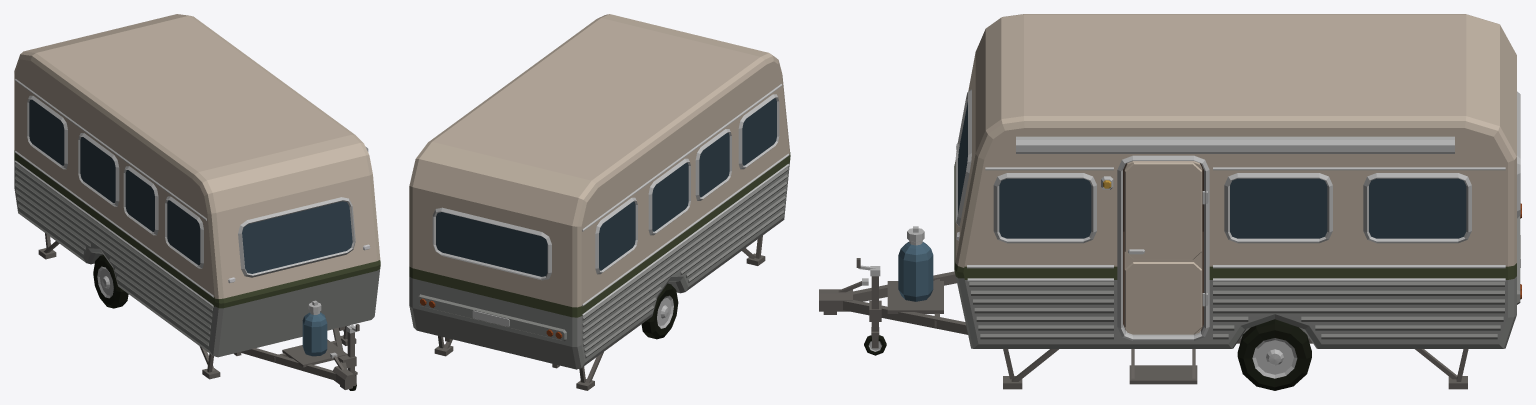
Rendered from rv-travel-trailer-bd53d7.glb.
3 renders of one model, left to right at view 1: azimuth 30°, elevation 25°; view 2: azimuth 150°, elevation 25°; view 3: azimuth 270°, elevation 25°, orthographic. The views are drawn at different scales.
Parts seen in each view (by area): view 1: trailer-body, gas-bottle, wheel-r; view 2: trailer-body, wheel-r; view 3: trailer-body, door, wheel-l, gas-bottle.
Boxes of the visible parts, box(x1,y1,x2,y2) form: trailer-body: box(14, 14, 380, 389); gas-bottle: box(302, 300, 327, 356); wheel-r: box(93, 255, 128, 308); trailer-body: box(409, 14, 790, 390); wheel-r: box(641, 283, 678, 339); trailer-body: box(819, 14, 1521, 389); door: box(1124, 161, 1205, 334); wheel-l: box(1237, 319, 1311, 390); gas-bottle: box(898, 226, 933, 301).
Size of the model in its own units: 2.67 by 2.7 by 6.24.
